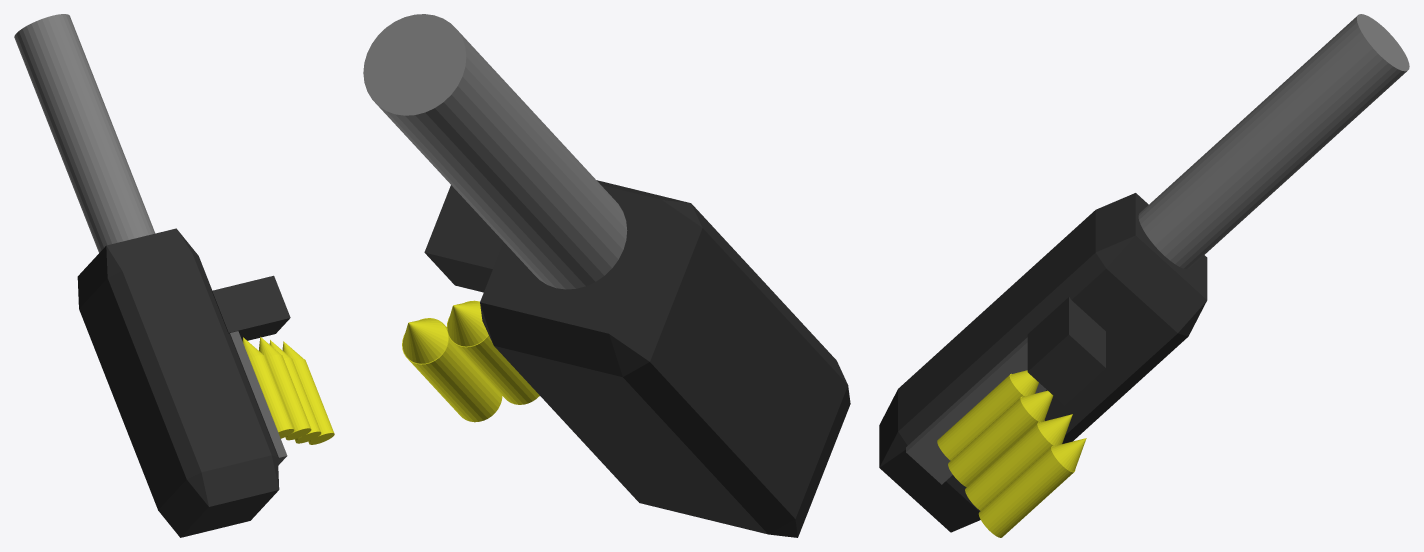
The model's file is Gun.glb.
The picture shows the model from 3 angles, left to right: view 1: azimuth 30°, elevation 25°; view 2: azimuth 150°, elevation 25°; view 3: azimuth 270°, elevation 25°; orthographic projection. The views are drawn at different scales.
Visible parts, largest first — view 1: Cylinder; view 2: Cylinder; view 3: Cylinder.
Part boxes in pixels (bbox=[...]): Cylinder: bbox=[14, 14, 334, 537]; Cylinder: bbox=[363, 14, 850, 537]; Cylinder: bbox=[879, 14, 1409, 537].
Size of the model in its own units: 0.7568 by 1.59 by 1.55.
